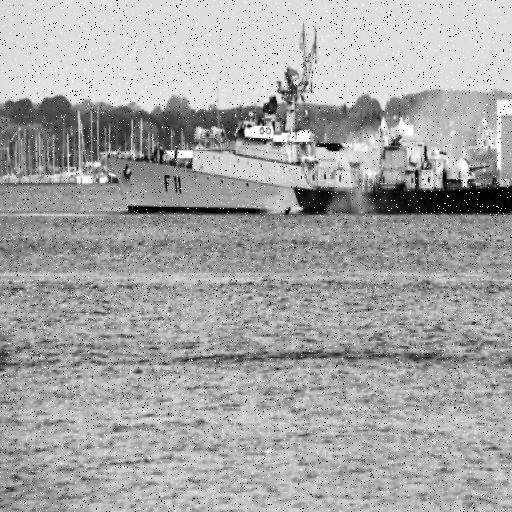Fragata: (98, 1, 512, 223)
